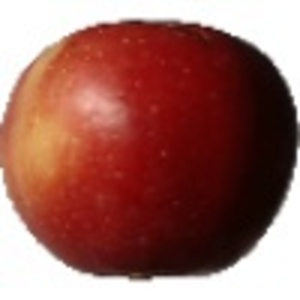maçã braeburn: (1, 17, 299, 282)
